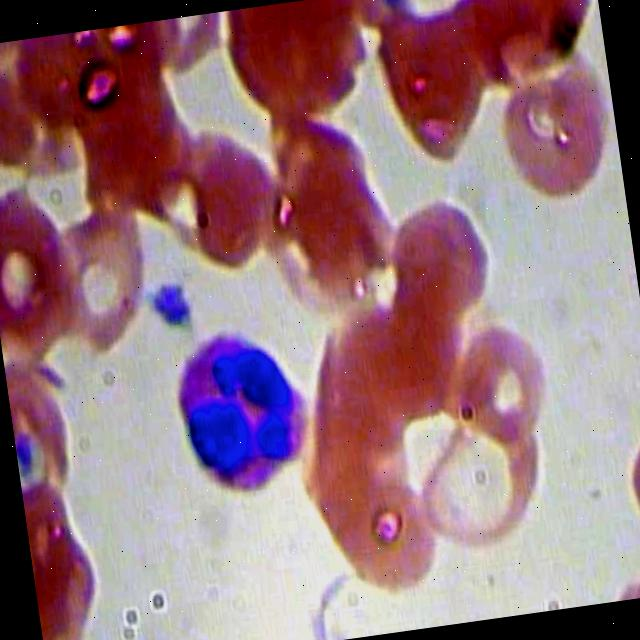Platelets: (134, 268, 199, 344)
RBC: (402, 384, 562, 568), (290, 425, 450, 609), (482, 33, 626, 215), (358, 0, 497, 185), (34, 188, 162, 356), (156, 115, 284, 282), (290, 289, 417, 457), (213, 0, 371, 135), (272, 132, 398, 300), (374, 180, 511, 328), (0, 172, 90, 389), (435, 0, 602, 93), (451, 311, 559, 454), (0, 28, 114, 156), (1, 342, 87, 510), (114, 11, 232, 96), (610, 414, 640, 551)
WBC: (160, 320, 330, 504)
